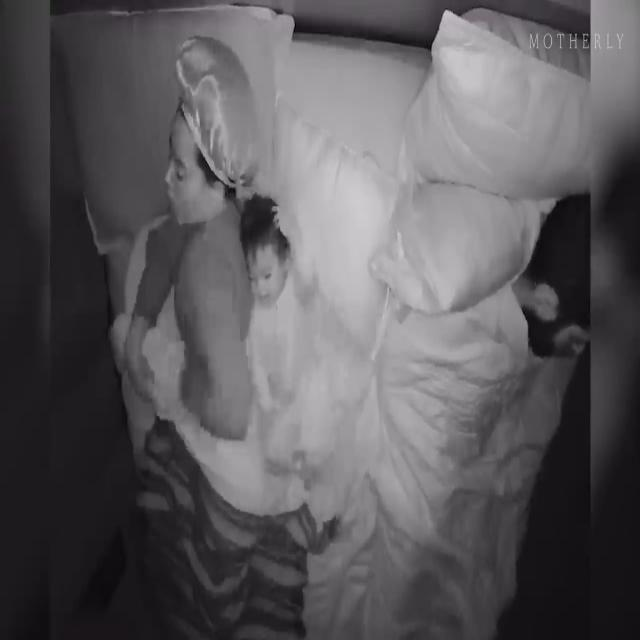baby: (240, 187, 320, 407)
